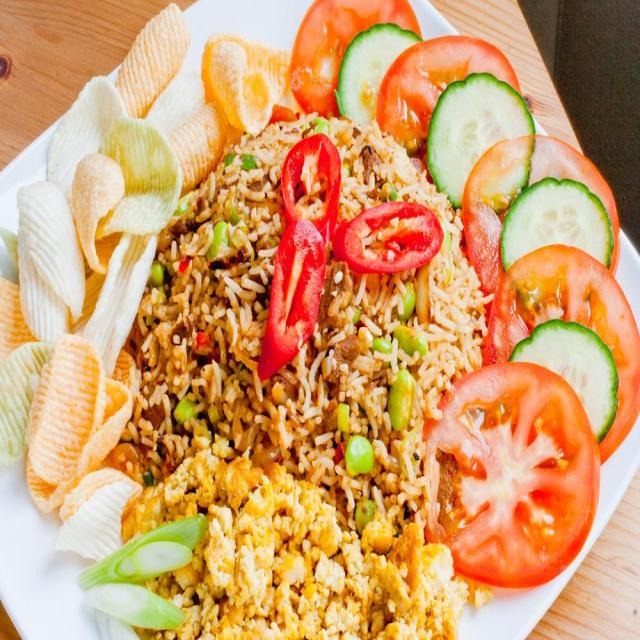Nasi Goreng: (97, 144, 496, 621)
